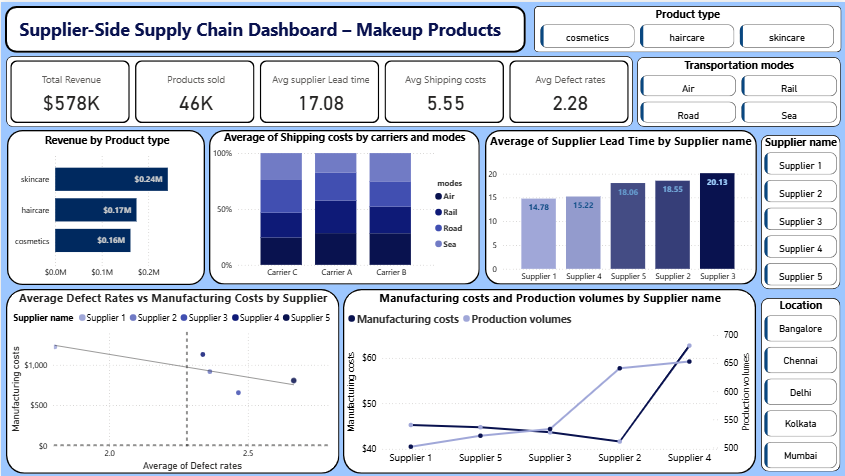

The dashboard page shown, as its layout file describes it:
{"tool":"powerbi","page":{"name":"Page 1","canvas":[1280,720],"ordinal":0},"visuals":[{"type":"shape","box":[314.9,194,410.4,234.3],"z":0},{"type":"shape","box":[9,194,300,235],"z":1000},{"type":"shape","box":[807.5,6,465.7,70.1],"z":2000},{"type":"shape","box":[1152,448.2,120.5,263],"z":3000},{"type":"shape","box":[1152,201.3,120.5,233.6],"z":4000},{"type":"shape","box":[7.5,82.1,950,107.5],"z":5000},{"type":"shape","box":[6.7,5.8,789.2,70.8],"z":6000},{"type":"textbox","box":[22,17.6,765.6,47],"z":7000},{"type":"cardVisual","fields":{"Data":["Sum(supply_chain_data.Revenue generated)","Sum(supply_chain_data.Number of products sold)","Avg(supply_chain_data.Lead time)","Avg(supply_chain_data.Shipping costs)","Avg(supply_chain_data.Defect rates)"]},"box":[9,83.6,949.3,106],"z":8000},{"type":"barChart","title":"Revenue by Product type","fields":{"Category":["supply_chain_data.Product type"],"Y":["Sum(supply_chain_data.Revenue generated)"]},"box":[11.9,198.5,297,229.9],"z":9000},{"type":"advancedSlicerVisual","fields":{"Values":["supply_chain_data.Product type"]},"box":[811.9,7.5,456.7,67.2],"z":10000},{"type":"advancedSlicerVisual","fields":{"Values":["supply_chain_data.Location"]},"box":[1152,448.2,120.5,263],"z":11000},{"type":"shape","box":[964.3,82.9,308.6,105.7],"z":12000},{"type":"hundredPercentStackedColumnChart","title":"Average of Shipping costs by carriers and  modes","fields":{"Category":["supply_chain_data.Shipping carriers"],"Series":["supply_chain_data.Transportation modes"],"Y":["Avg(supply_chain_data.Shipping costs)"]},"box":[314.9,194,410.4,234.3],"z":13000},{"type":"advancedSlicerVisual","fields":{"Values":["supply_chain_data.Transportation modes"]},"box":[964.2,85.1,309,104.5],"z":14000},{"type":"advancedSlicerVisual","fields":{"Values":["supply_chain_data.Supplier name"]},"box":[1152,201.3,120.5,233.6],"z":15000},{"type":"shape","box":[732.8,194,411.9,234.3],"z":16000},{"type":"shape","box":[518.7,434.9,626,280],"z":17000},{"type":"lineChart","fields":{"Category":["supply_chain_data.Supplier name"],"Y":["Avg(supply_chain_data.Manufacturing costs)"],"Y2":["Avg(supply_chain_data.Production volumes)"]},"box":[520.2,434.9,624.5,276.2],"z":18000},{"type":"clusteredColumnChart","fields":{"Category":["supply_chain_data.Supplier name"],"Y":["Avg(supply_chain_data.Lead time)"]},"box":[732.8,197,411.9,237.3],"z":19000},{"type":"shape","box":[7.3,434.9,505.5,280],"z":21000},{"type":"scatterChart","title":"Average Defect Rates vs Manufacturing Costs by Supplier","fields":{"Series":["supply_chain_data.Supplier name"],"X":["Avg(supply_chain_data.Defect rates)"],"Y":["Sum(supply_chain_data.Manufacturing costs)"]},"box":[8.8,434.9,504,280.7],"z":21500}]}

Visuals, with their boxes in screenshot pixels (x1, y1, x2, y2), scaled from the page's 1280x720 canvas onto the 845x476 screenshot:
shape: pyautogui.locateOnScreen(208, 128, 479, 283)
shape: pyautogui.locateOnScreen(6, 128, 204, 284)
shape: pyautogui.locateOnScreen(533, 4, 841, 50)
shape: pyautogui.locateOnScreen(760, 296, 840, 470)
shape: pyautogui.locateOnScreen(760, 133, 840, 288)
shape: pyautogui.locateOnScreen(5, 54, 632, 125)
shape: pyautogui.locateOnScreen(4, 4, 525, 51)
textbox: pyautogui.locateOnScreen(15, 12, 520, 43)
cardVisual - Sum(supply_chain_data.Revenue generated) x Sum(supply_chain_data.Number of products sold): pyautogui.locateOnScreen(6, 55, 633, 125)
"Revenue by Product type" barChart: pyautogui.locateOnScreen(8, 131, 204, 283)
advancedSlicerVisual - supply_chain_data.Product type: pyautogui.locateOnScreen(536, 5, 837, 49)
advancedSlicerVisual - supply_chain_data.Location: pyautogui.locateOnScreen(760, 296, 840, 470)
shape: pyautogui.locateOnScreen(637, 55, 840, 125)
"Average of Shipping costs by carriers and  modes" hundredPercentStackedColumnChart: pyautogui.locateOnScreen(208, 128, 479, 283)
advancedSlicerVisual - supply_chain_data.Transportation modes: pyautogui.locateOnScreen(637, 56, 841, 125)
advancedSlicerVisual - supply_chain_data.Supplier name: pyautogui.locateOnScreen(760, 133, 840, 288)
shape: pyautogui.locateOnScreen(484, 128, 756, 283)
shape: pyautogui.locateOnScreen(342, 288, 756, 473)
lineChart - supply_chain_data.Supplier name x Avg(supply_chain_data.Manufacturing costs): pyautogui.locateOnScreen(343, 288, 756, 470)
clusteredColumnChart - supply_chain_data.Supplier name x Avg(supply_chain_data.Lead time): pyautogui.locateOnScreen(484, 130, 756, 287)
shape: pyautogui.locateOnScreen(5, 288, 339, 473)
"Average Defect Rates vs Manufacturing Costs by Supplier" scatterChart: pyautogui.locateOnScreen(6, 288, 339, 473)
